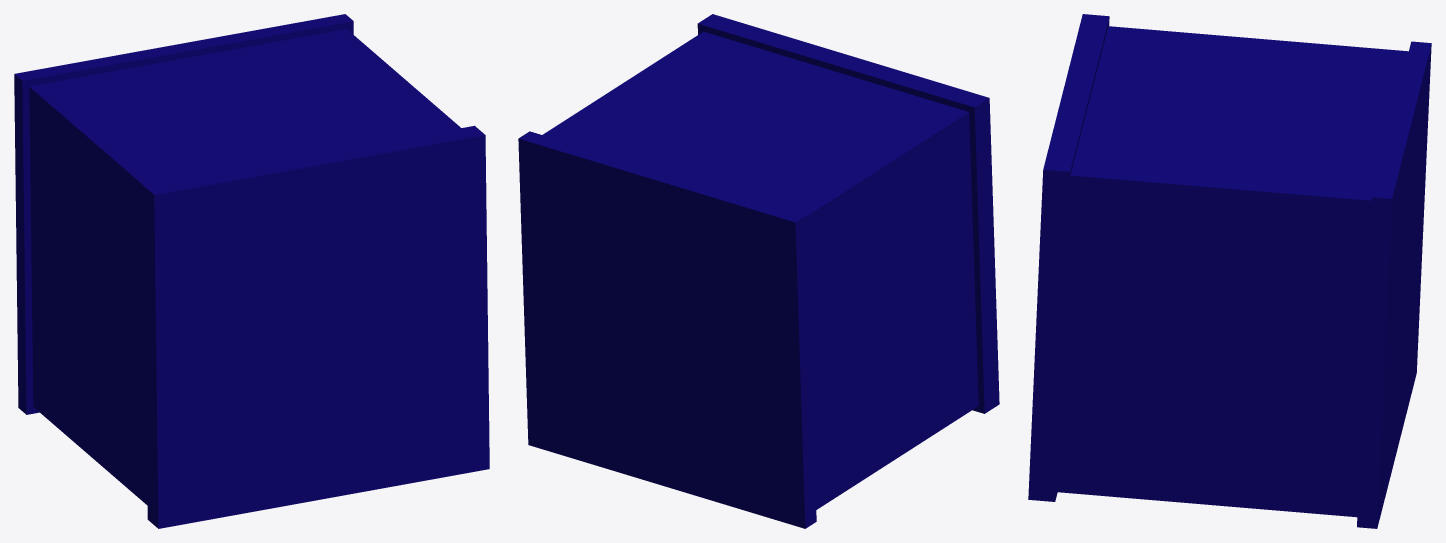
3 views of the same model, side by side, from view 1: azimuth 30°, elevation 25°; view 2: azimuth 150°, elevation 25°; view 3: azimuth 270°, elevation 25° (orthographic). The views are drawn at different scales.
Parts seen in each view (by area): view 1: box_C; view 2: box_C; view 3: box_C.
Boxes of the visible parts, <box> form: box_C: <box>14,14,489,528</box>; box_C: <box>518,14,999,528</box>; box_C: <box>1028,14,1431,528</box>.
Bounding box in the file's own units: 73.07 × 68.91 × 72.67.
